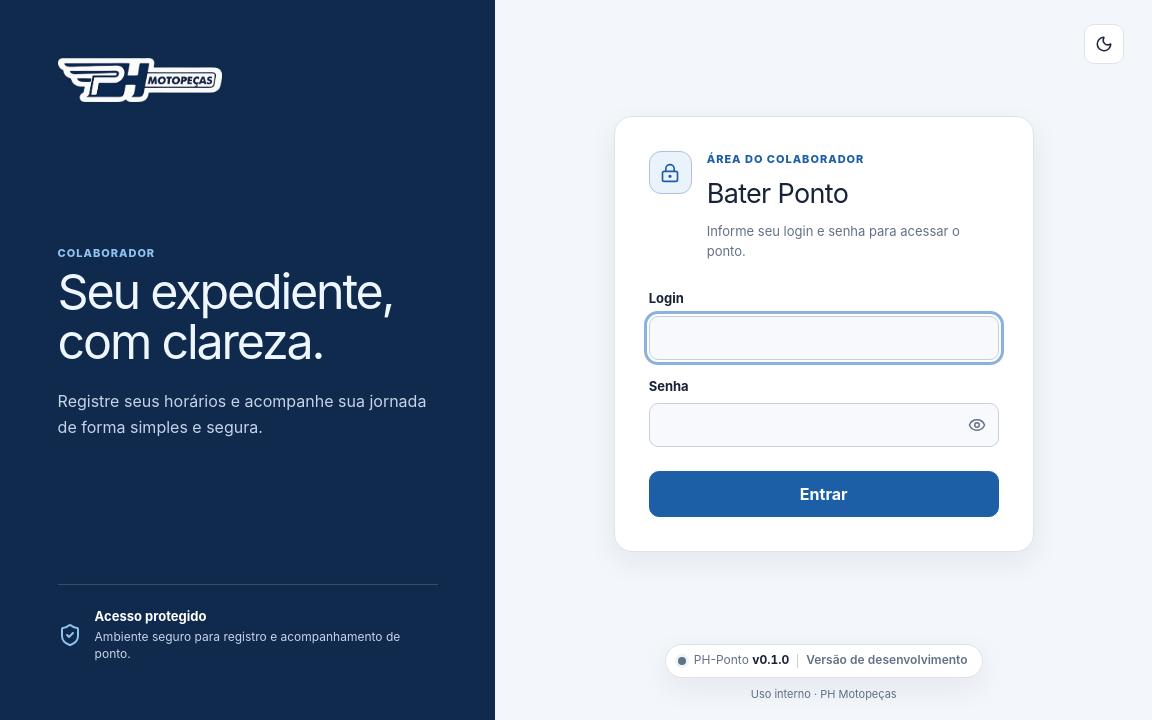
Test: PH-Ponto employee application › switches light and dark themes with an accessible control
The width and height of the screenshot is (1152, 720).
Click the button named "Ativar modo escuro": (1104, 44) [1084,24,1124,64]
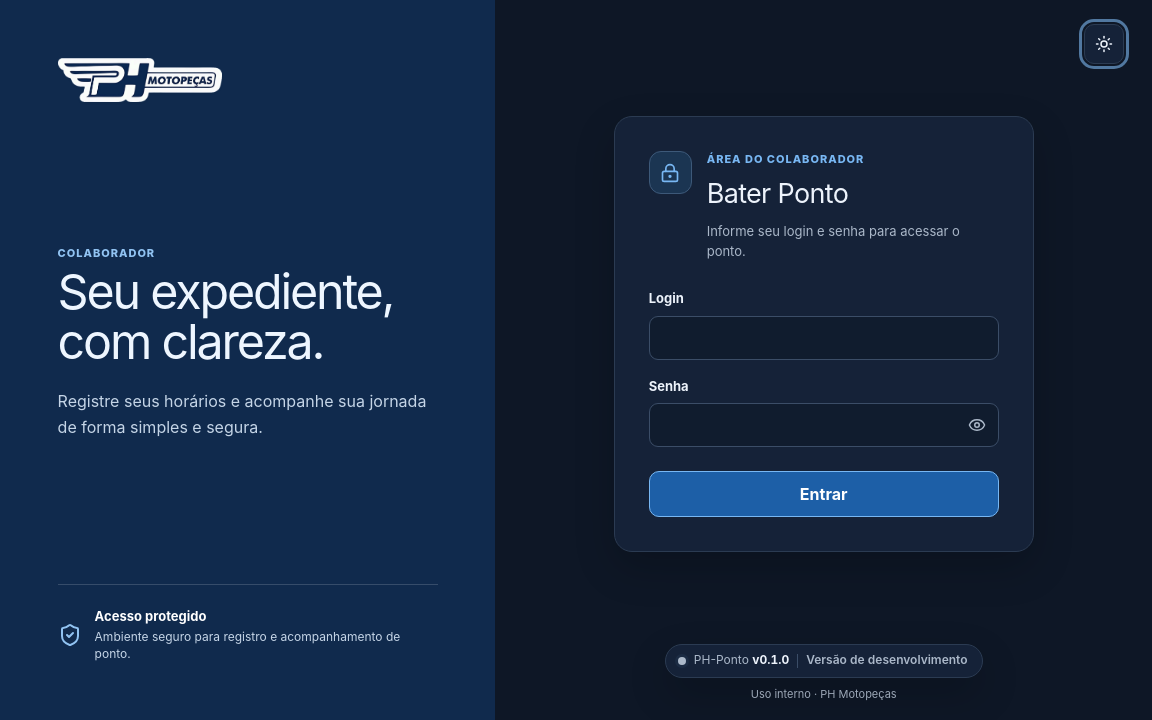
Expected: the button named "Ativar modo claro" is shown, [1084,24,1124,64]
